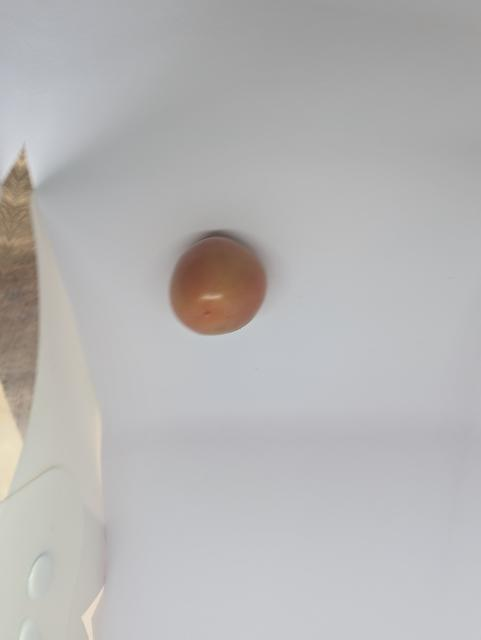turning: (152, 230, 276, 345)
